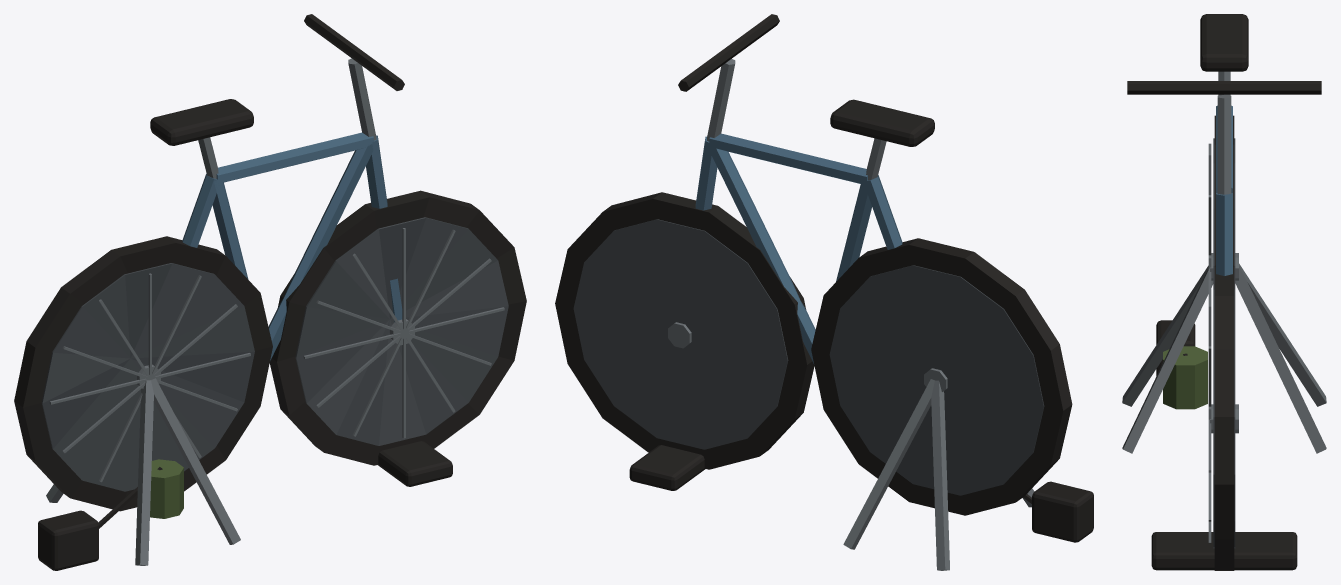
File: bike_generator_skladnoy_idle.glb
3 views of the same model, side by side, from view 1: azimuth 30°, elevation 25°; view 2: azimuth 150°, elevation 25°; view 3: azimuth 270°, elevation 25° (orthographic). The views are drawn at different scales.
Visible parts, largest first — view 1: bike_generator_skladnoy_idle; view 2: bike_generator_skladnoy_idle; view 3: bike_generator_skladnoy_idle.
Boxes of the visible parts, x1=… form: bike_generator_skladnoy_idle: x1=14, y1=14, x2=526, y2=570; bike_generator_skladnoy_idle: x1=555, y1=14, x2=1093, y2=570; bike_generator_skladnoy_idle: x1=1122, y1=14, x2=1326, y2=570.
Bounding box in the file's own units: 1.29 × 1.04 × 0.4205.
Materials: 1 (1 with a texture image).
